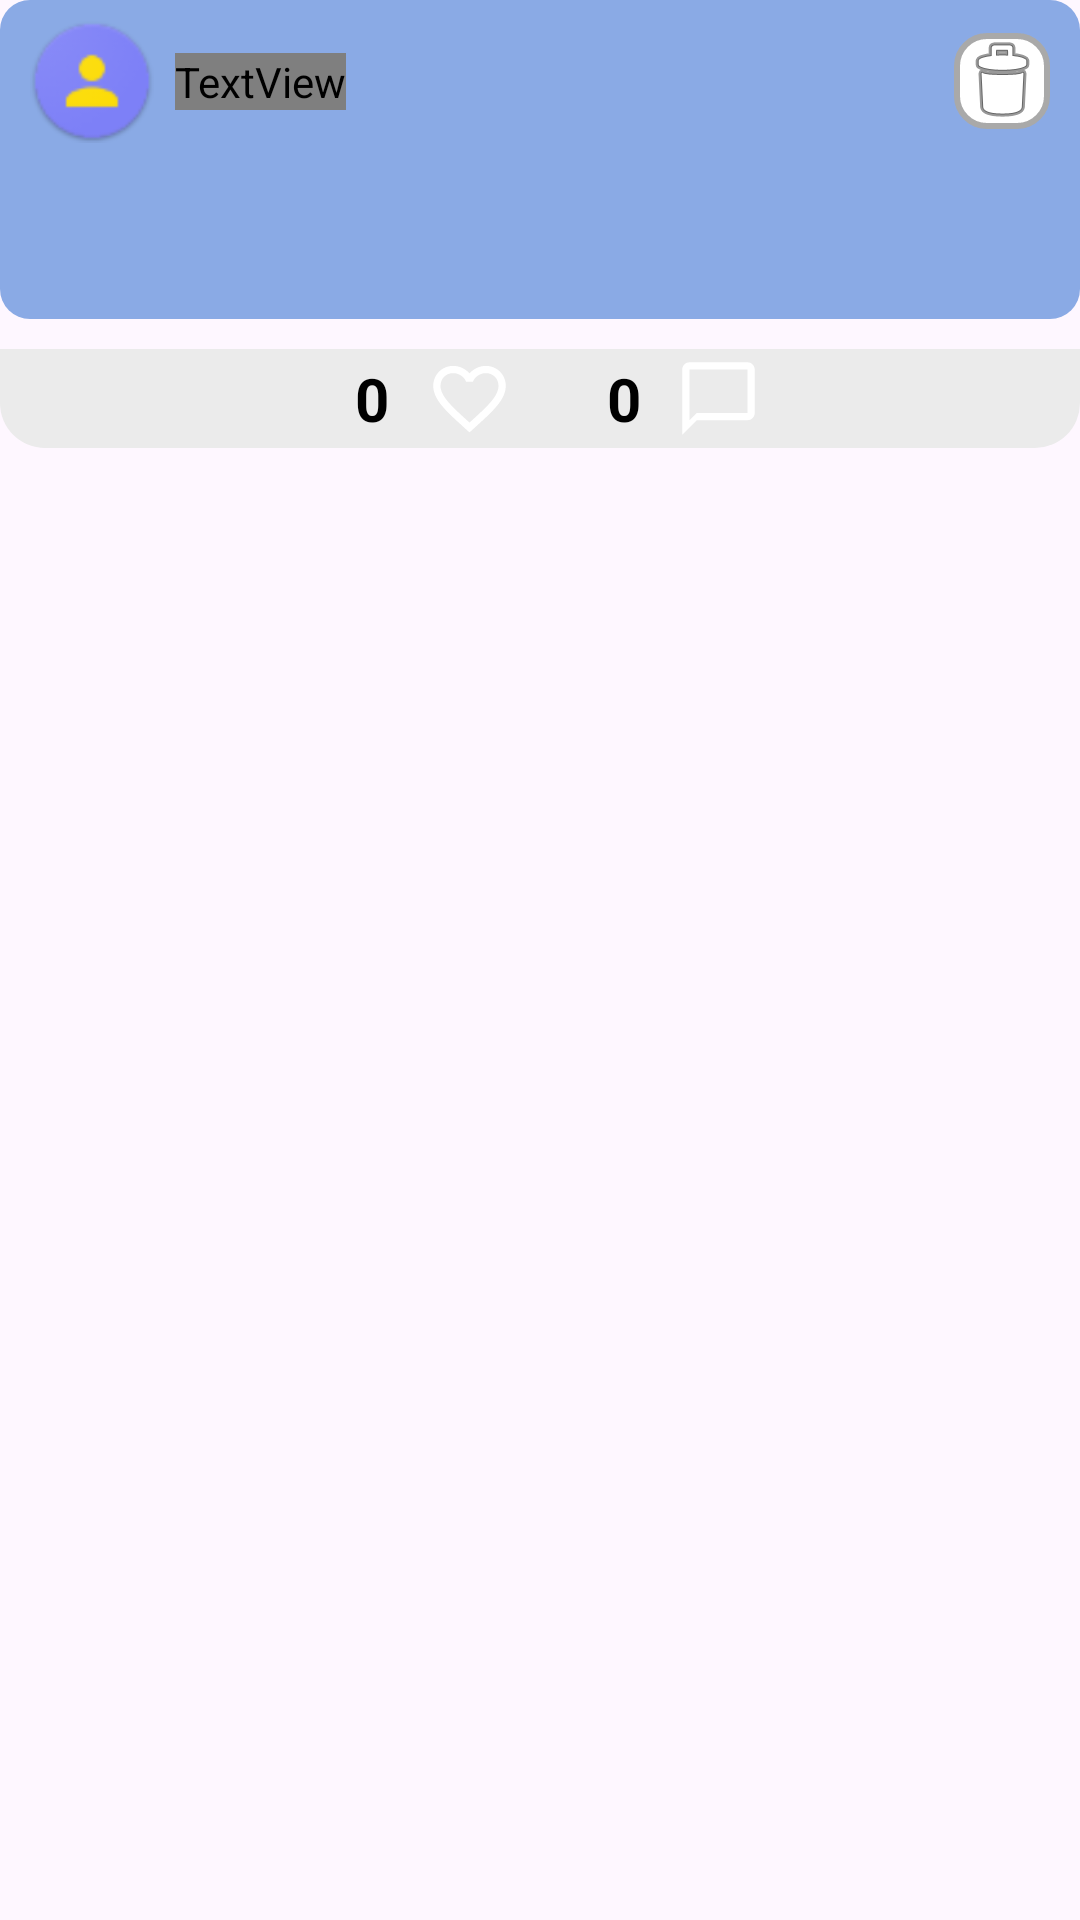

Icon click points for this 1080x1920 phone screenshot, format [x,y]:
delete Post: [1002,81]
